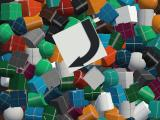Right: (52, 17, 108, 74)
